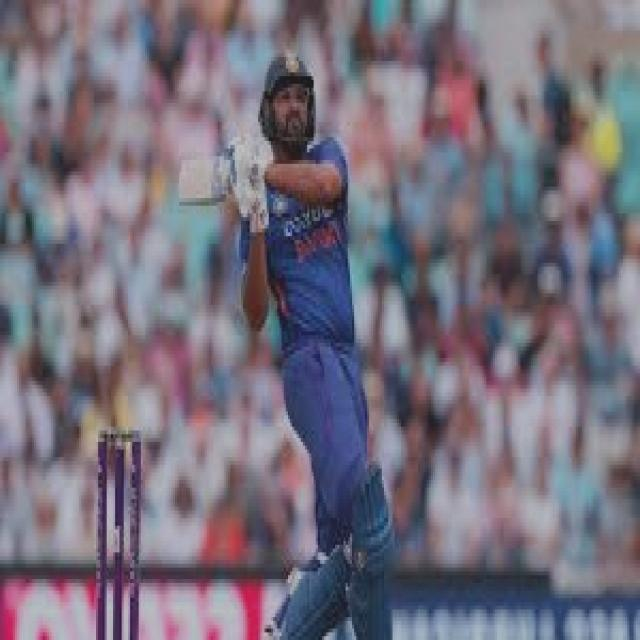toe: (176, 159, 194, 209)
